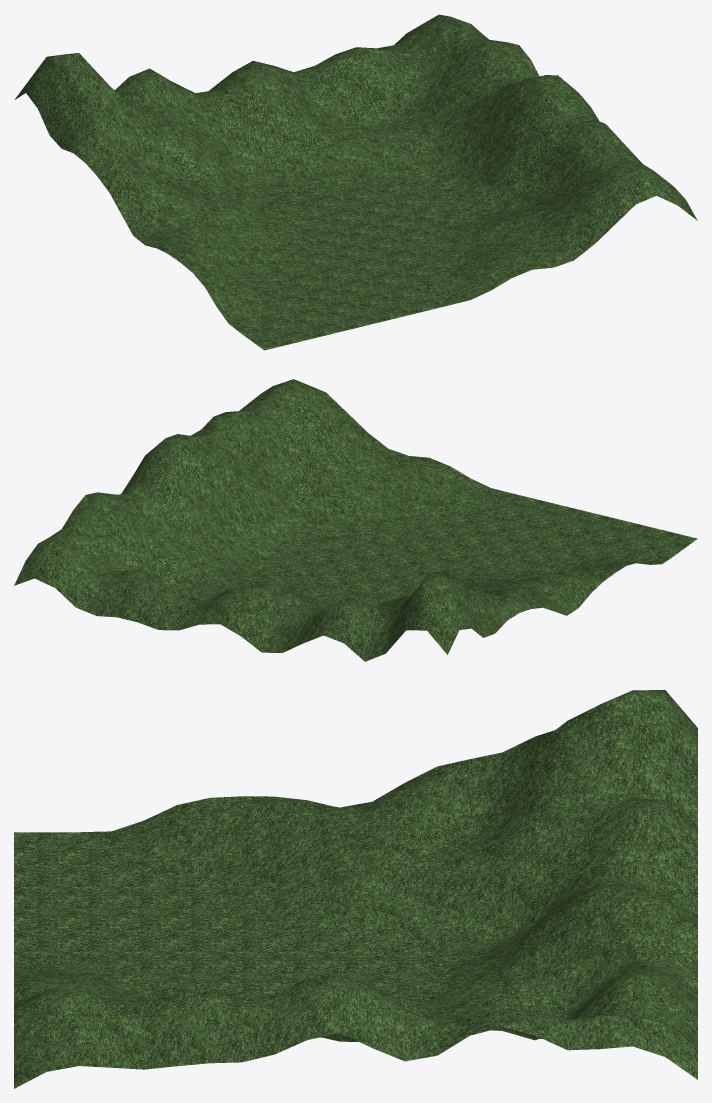
File: terrain5.dae
3 renders of one model, top to bottom at view 1: azimuth 30°, elevation 25°; view 2: azimuth 150°, elevation 25°; view 3: azimuth 270°, elevation 25°, orthographic. The views are drawn at different scales.
Visible parts, largest first — view 1: SketchUp; view 2: SketchUp; view 3: SketchUp.
Boxes of the visible parts, <box> form: SketchUp: <box>14,14,697,350</box>; SketchUp: <box>14,379,697,661</box>; SketchUp: <box>14,690,697,1088</box>.
Size of the model in its own units: 63 by 63 by 16.9.
1 material, 1 textured.
